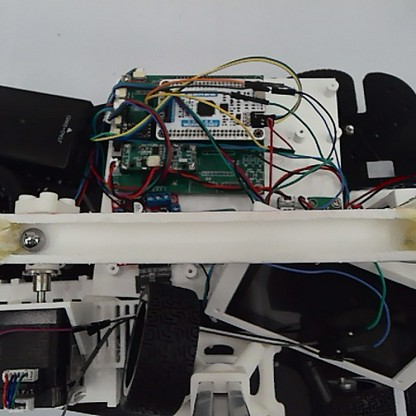ironball: (17, 225, 46, 252)
